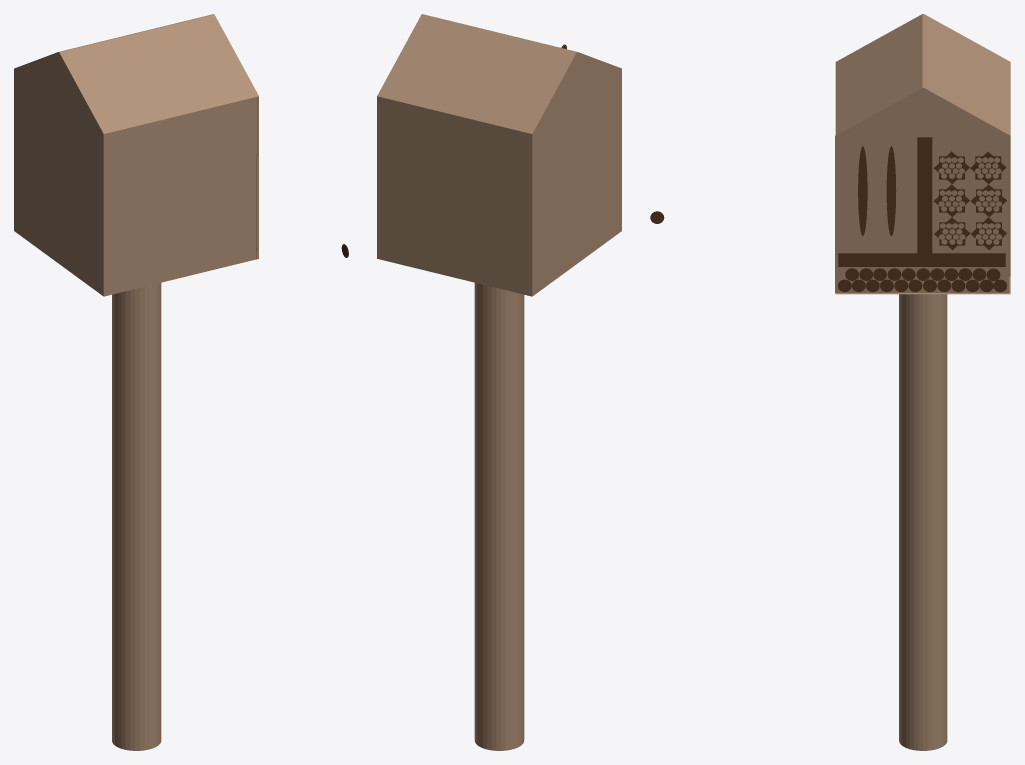
The model's file is insectenhotel.fbx.
The picture shows the model from 3 angles, left to right: view 1: azimuth 30°, elevation 25°; view 2: azimuth 150°, elevation 25°; view 3: azimuth 270°, elevation 25°; orthographic projection. The views are drawn at different scales.
Parts seen in each view (by area): view 1: Cube, Circle.124; view 2: Cube, Circle.124; view 3: Circle.124, Cube, Plane, Plane.002, Plane.001, Circle, Circle.123.
Boxes of the visible parts, left/top/right/bottom form: Cube: left=14, top=14, right=258, bottom=296; Circle.124: left=112, top=283, right=161, bottom=750; Cube: left=377, top=14, right=621, bottom=296; Circle.124: left=474, top=283, right=524, bottom=750; Circle.124: left=899, top=294, right=947, bottom=750; Cube: left=835, top=14, right=1010, bottom=294; Plane: left=835, top=135, right=1009, bottom=293; Plane.002: left=838, top=253, right=1005, bottom=266; Plane.001: left=917, top=137, right=932, bottom=253; Circle: left=858, top=146, right=867, bottom=235; Circle.123: left=886, top=146, right=896, bottom=236.
Bounding box in the file's own units: 257 × 1118 × 530.
